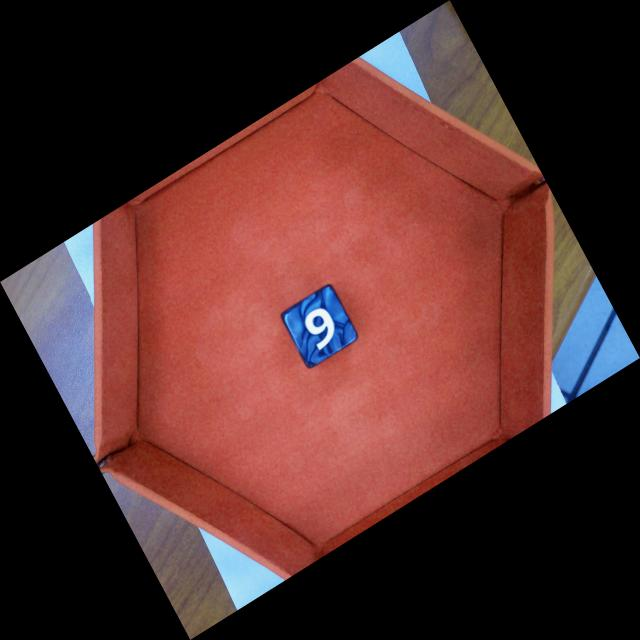dice: (287, 287, 358, 363)
